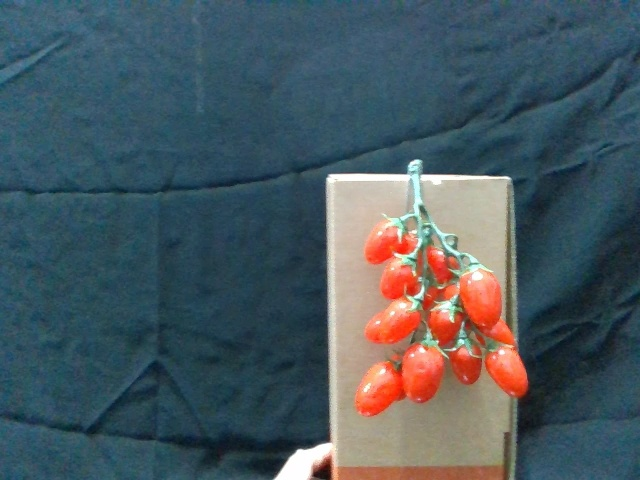tomato: (459, 261, 504, 331), (359, 353, 405, 421), (403, 338, 451, 403), (367, 292, 424, 346), (483, 338, 532, 398), (365, 213, 411, 266), (448, 330, 483, 389), (380, 252, 425, 297), (428, 298, 465, 346)
